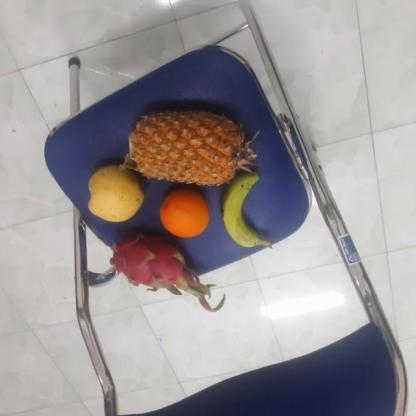pear: (85, 165, 147, 224), (158, 186, 212, 238)
pineapple: (128, 109, 254, 184)
pitaya: (114, 229, 196, 287)
